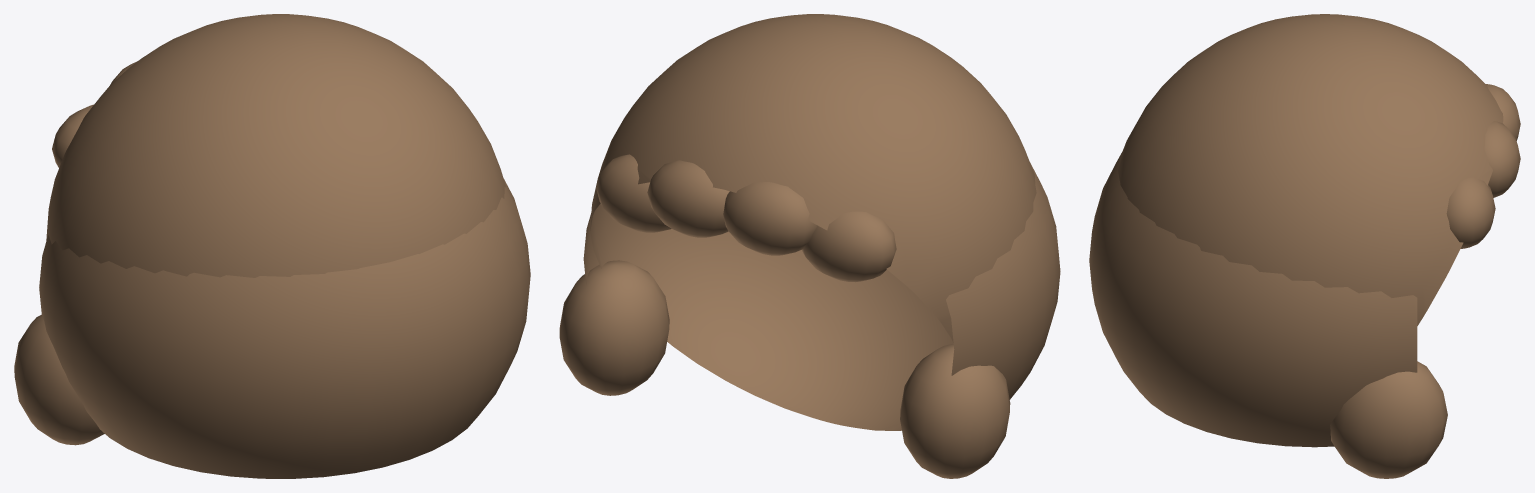
The model's file is bob.glb.
The picture shows the model from 3 angles, left to right: view 1: azimuth 30°, elevation 25°; view 2: azimuth 150°, elevation 25°; view 3: azimuth 270°, elevation 25°; orthographic projection. The views are drawn at different scales.
Visible parts, largest first — view 1: Head; view 2: Head; view 3: Head.
Boxes of the visible parts, x1,y1,x2,y2 form: Head: (14, 14, 530, 478); Head: (559, 14, 1060, 478); Head: (1089, 14, 1520, 478).
Size of the model in its own units: 0.4465 by 0.3934 by 0.4.
